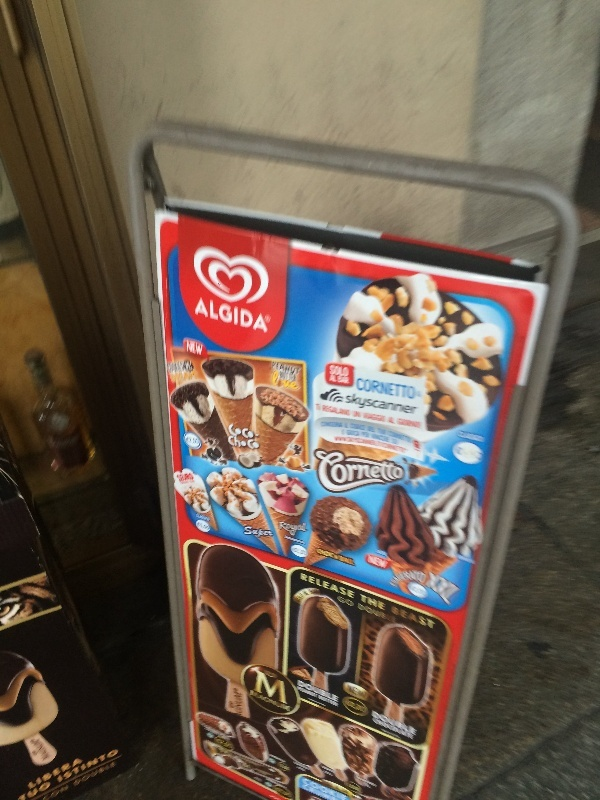text: (321, 445, 336, 498), (337, 445, 352, 498), (353, 445, 368, 498), (369, 445, 384, 498), (385, 445, 400, 498), (433, 568, 448, 609), (209, 295, 224, 335), (225, 295, 240, 335), (241, 295, 256, 335), (273, 670, 289, 707), (449, 568, 463, 609), (194, 295, 208, 335), (257, 670, 272, 707), (257, 295, 270, 335), (311, 445, 320, 498), (305, 571, 320, 601), (321, 571, 336, 601), (337, 571, 352, 601), (385, 709, 400, 739), (401, 709, 416, 739), (401, 604, 416, 632), (417, 604, 432, 632), (305, 679, 320, 705), (321, 679, 336, 705), (372, 709, 384, 739), (369, 377, 384, 401), (385, 377, 400, 401), (401, 377, 416, 401), (353, 391, 368, 415), (369, 391, 384, 415), (385, 391, 400, 415), (401, 391, 416, 415), (321, 546, 336, 569), (337, 546, 352, 569), (369, 592, 384, 613), (385, 569, 400, 590), (401, 569, 416, 590), (177, 359, 192, 378), (273, 359, 288, 378), (289, 520, 304, 538), (369, 553, 384, 571), (289, 359, 303, 378), (401, 445, 406, 498), (357, 377, 368, 401), (391, 604, 400, 632), (417, 569, 428, 590), (257, 524, 272, 538), (193, 339, 204, 357), (359, 592, 368, 613), (243, 524, 256, 538), (297, 679, 304, 705), (167, 359, 176, 378), (337, 364, 350, 377), (428, 568, 432, 609), (279, 520, 288, 538), (346, 391, 352, 415), (433, 604, 438, 632), (316, 546, 320, 569), (329, 364, 336, 377), (187, 339, 192, 357), (385, 553, 390, 571), (301, 571, 304, 601), (337, 679, 340, 705), (193, 359, 197, 378), (305, 520, 309, 538), (417, 391, 420, 415), (353, 546, 356, 569), (353, 571, 355, 601), (330, 374, 336, 384), (266, 314, 272, 323), (255, 670, 256, 707), (417, 709, 418, 739), (273, 524, 275, 538), (385, 592, 386, 613)
